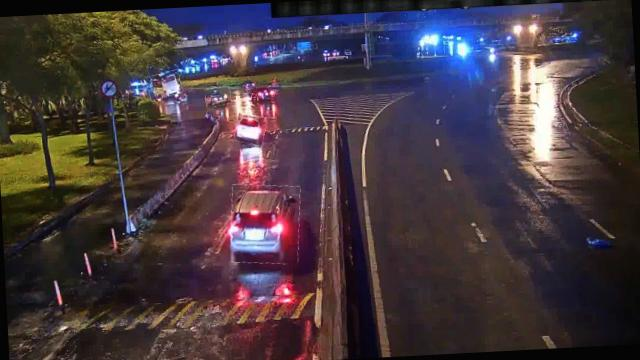Bus: (146, 70, 182, 98)
Car: (228, 182, 302, 266), (232, 112, 266, 145), (204, 86, 231, 106)
